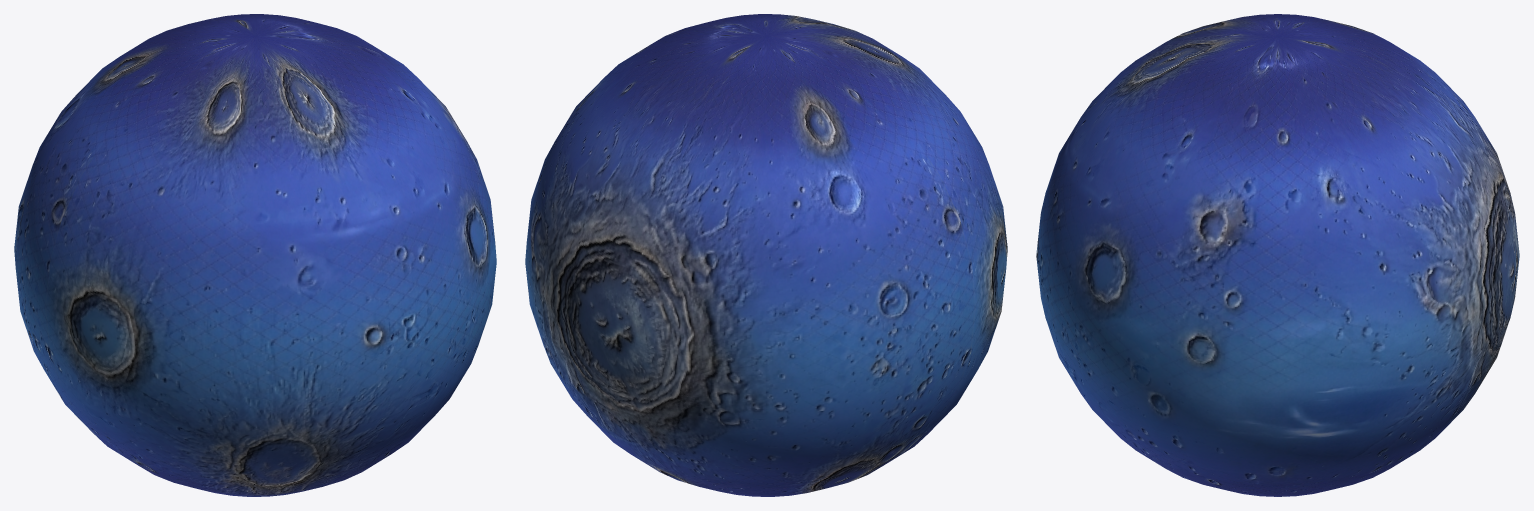
The model's file is Nepthune.glb.
The picture shows the model from 3 angles, left to right: view 1: azimuth 30°, elevation 25°; view 2: azimuth 150°, elevation 25°; view 3: azimuth 270°, elevation 25°; orthographic projection.
Parts seen in each view (by area): view 1: Mars; view 2: Mars; view 3: Mars.
Boxes of the visible parts, x1,y1,x2,y2 form: Mars: (14, 14, 496, 496); Mars: (525, 14, 1007, 496); Mars: (1036, 14, 1519, 496).
Size of the model in its own units: 2 by 2.01 by 2.
Materials: 2 (1 with a texture image).
